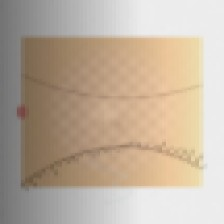foreign_body_visible: (68, 130, 103, 158)
